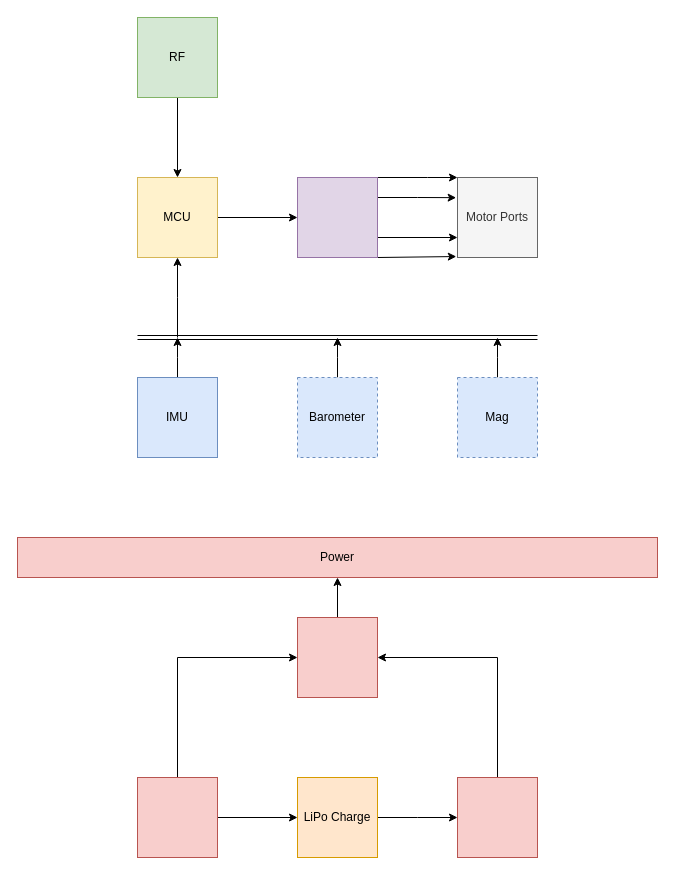
Some shapes in this 675 by 875 pixel diagram are drawn without their labels. Each missing label, with the centre of its shape:
External: [177,817]
LiPo: [497,817]
Motor Drivers: [337,217]
Regulator: [337,657]
